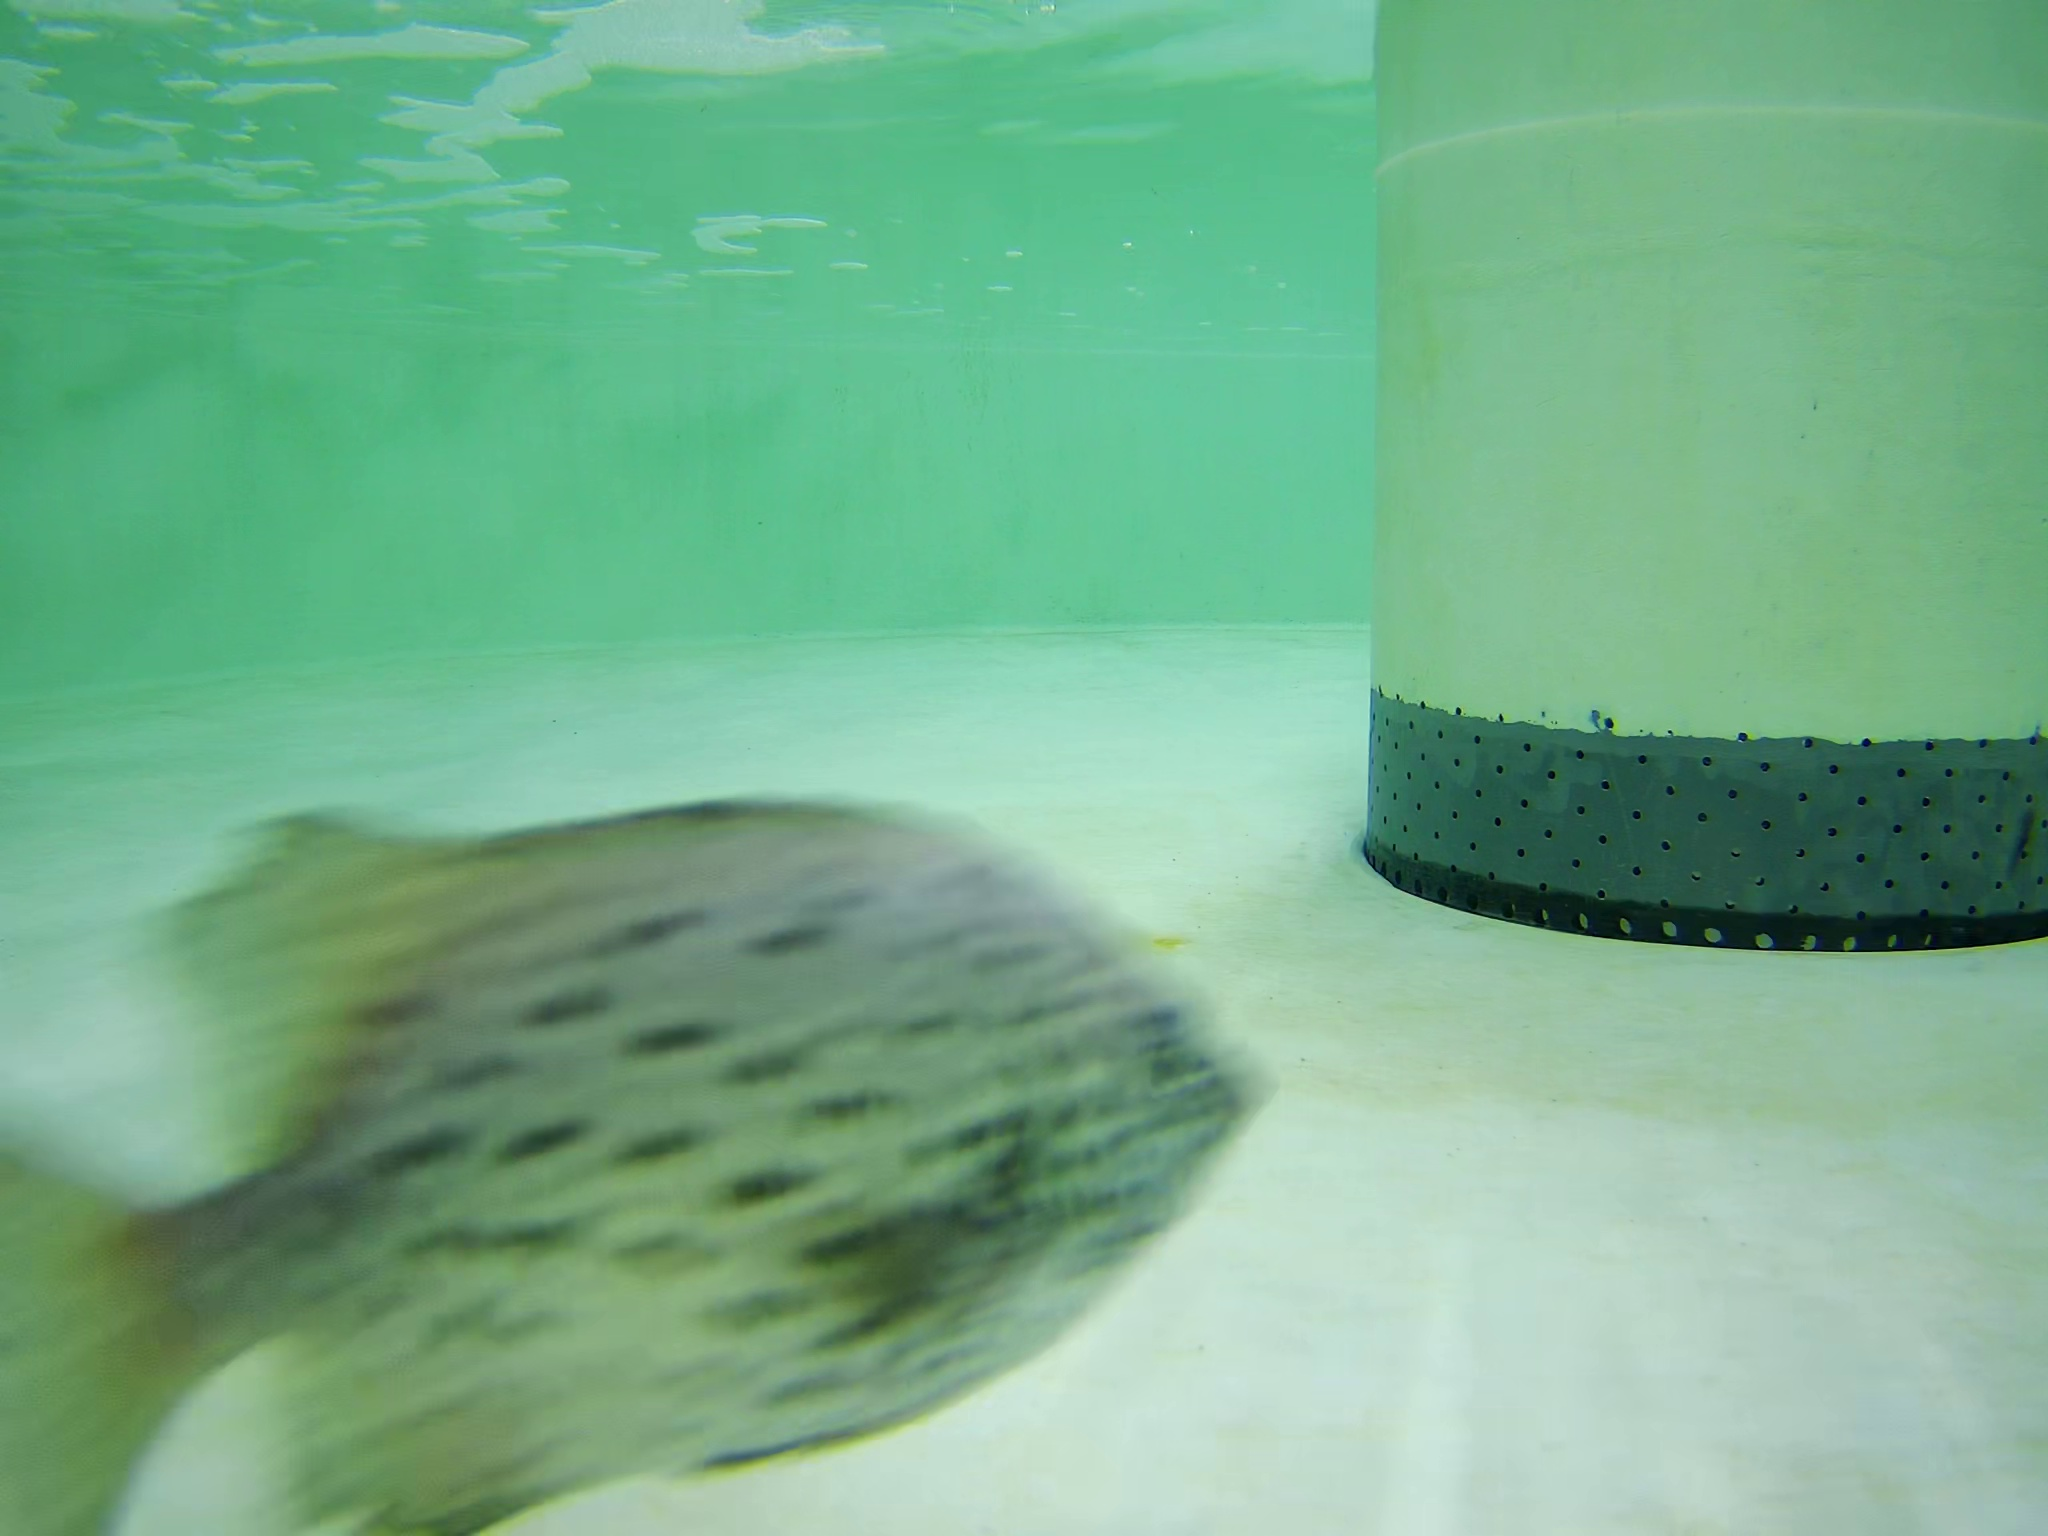fish: (2, 789, 1308, 1536)
